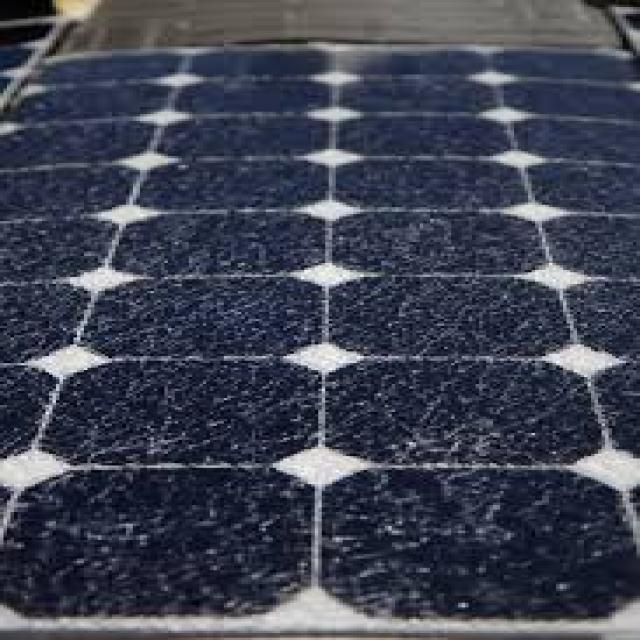faulty: (0, 66, 627, 640)
